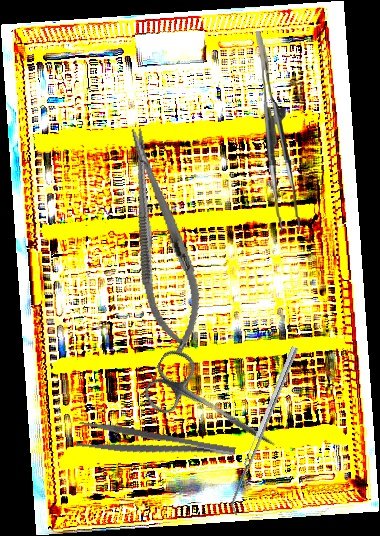Dressing Forceps: (75, 418, 237, 473)
Iris Scissors: (137, 344, 292, 471)
Needle Holder: (110, 122, 212, 357)
Spatula Surgical: (225, 345, 305, 517)
Tissue Forceps: (256, 30, 300, 232)
